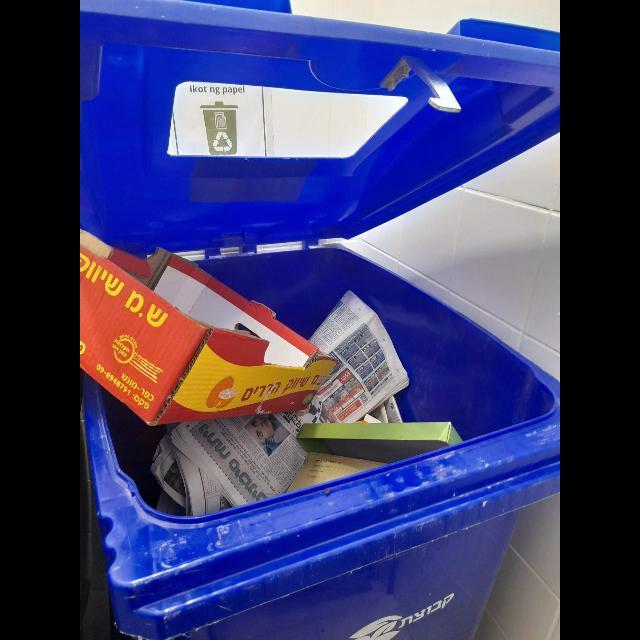cardboard: (80, 229, 337, 428), (296, 422, 463, 464)
paper: (150, 291, 410, 517)
